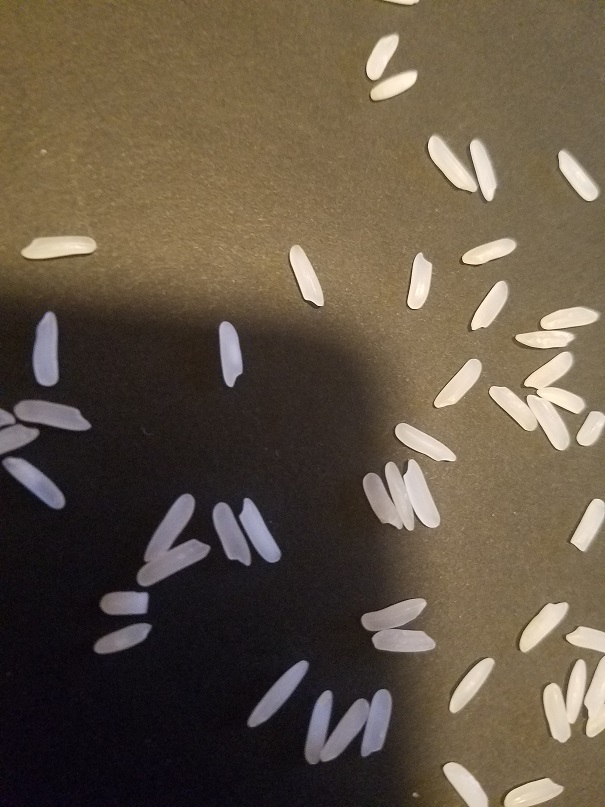egg: (243, 656, 312, 733), (138, 493, 197, 567), (133, 536, 209, 589), (420, 132, 480, 199), (316, 695, 372, 766), (2, 453, 68, 510), (513, 595, 574, 656), (441, 654, 499, 717), (380, 449, 421, 536), (390, 417, 464, 465), (426, 354, 487, 411), (521, 390, 574, 455), (236, 494, 283, 566), (549, 142, 603, 203), (465, 126, 505, 208), (13, 395, 98, 433), (210, 498, 254, 571), (483, 379, 540, 434), (402, 452, 441, 532), (465, 273, 512, 338), (358, 593, 432, 634), (283, 242, 327, 309), (301, 686, 336, 767), (360, 473, 407, 533), (29, 309, 64, 389), (358, 686, 394, 762), (440, 758, 495, 807), (16, 229, 98, 261), (520, 347, 581, 390), (501, 770, 568, 807), (90, 619, 153, 658), (565, 495, 605, 556), (541, 679, 575, 748), (457, 233, 520, 270), (368, 627, 441, 658), (359, 29, 401, 82), (365, 66, 419, 106), (404, 251, 436, 315), (532, 381, 588, 416), (559, 659, 587, 725), (98, 587, 151, 620), (219, 321, 244, 390), (1, 419, 46, 455), (540, 303, 604, 328), (512, 327, 576, 349), (581, 656, 605, 712), (575, 407, 605, 451), (565, 621, 605, 653), (580, 707, 605, 738), (1, 409, 19, 428)
